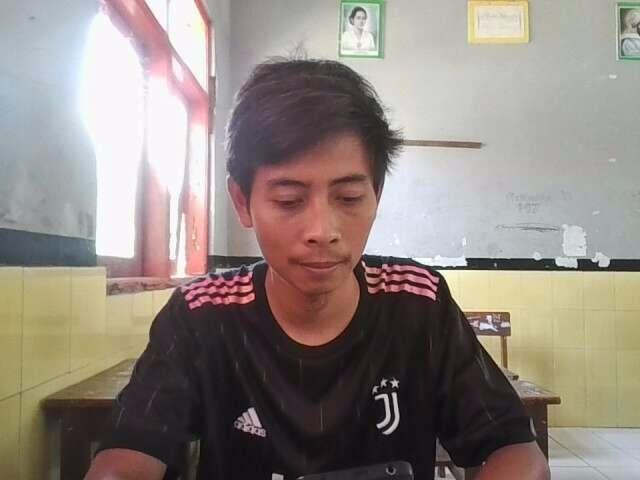good: (68, 52, 575, 480)
